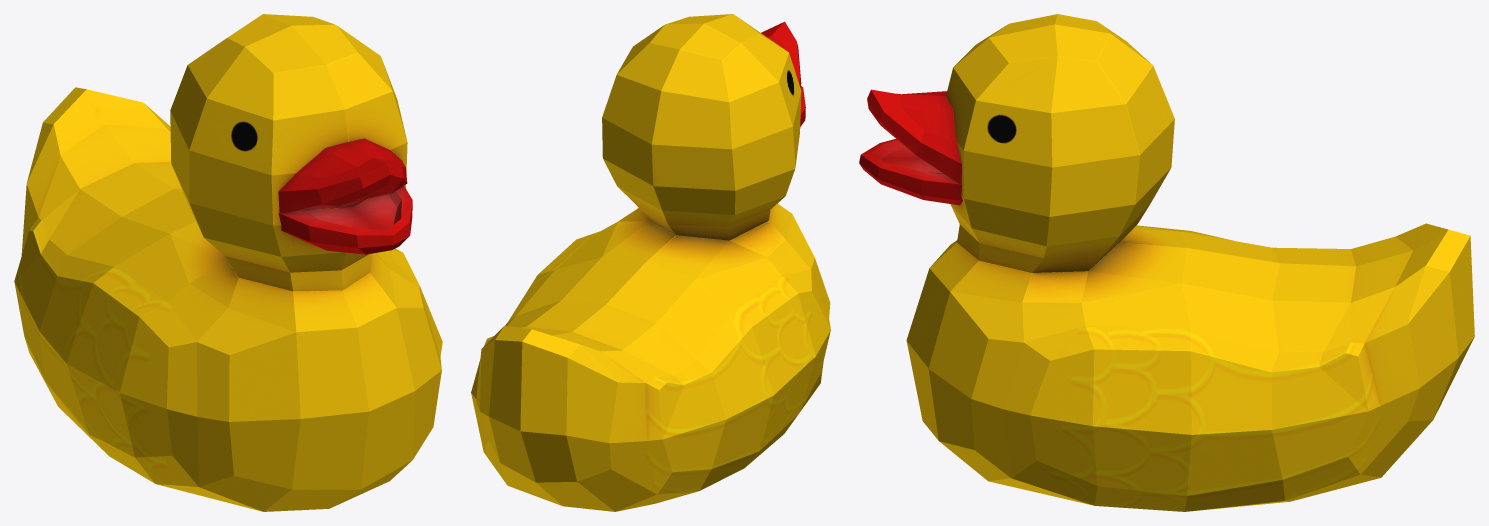
Rendered from duck.glb.
3 renders of one model, left to right at view 1: azimuth 30°, elevation 25°; view 2: azimuth 150°, elevation 25°; view 3: azimuth 270°, elevation 25°, orthographic. The views are drawn at different scales.
Visible parts, largest first — view 1: node-0; view 2: node-0; view 3: node-0.
Boxes of the visible parts, bbox=[...] form: node-0: bbox=[14, 14, 442, 511]; node-0: bbox=[471, 14, 830, 511]; node-0: bbox=[859, 14, 1474, 511].
Size of the model in its own units: 0.1486 by 0.2177 by 0.2679.
1 material, 1 textured.
